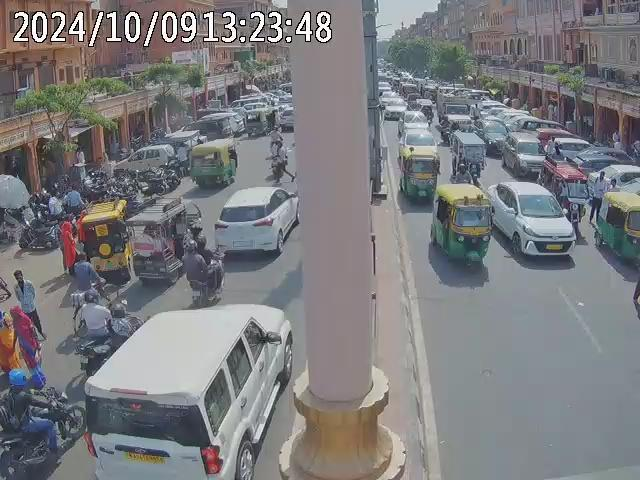auto: (429, 181, 492, 274), (126, 197, 187, 287), (77, 198, 130, 282), (591, 189, 639, 273), (542, 157, 592, 221), (401, 140, 440, 206), (188, 139, 237, 190), (448, 130, 487, 183)
car: (80, 303, 295, 479), (486, 180, 577, 264), (212, 185, 300, 258), (502, 135, 546, 177), (378, 95, 407, 120)
helmet: (10, 368, 30, 392), (83, 290, 101, 303), (194, 234, 207, 250), (185, 240, 198, 253)
license_plate: (122, 448, 166, 463)
motorbike-rider: (0, 366, 82, 479), (75, 285, 134, 371), (181, 220, 226, 307), (266, 135, 287, 182)
